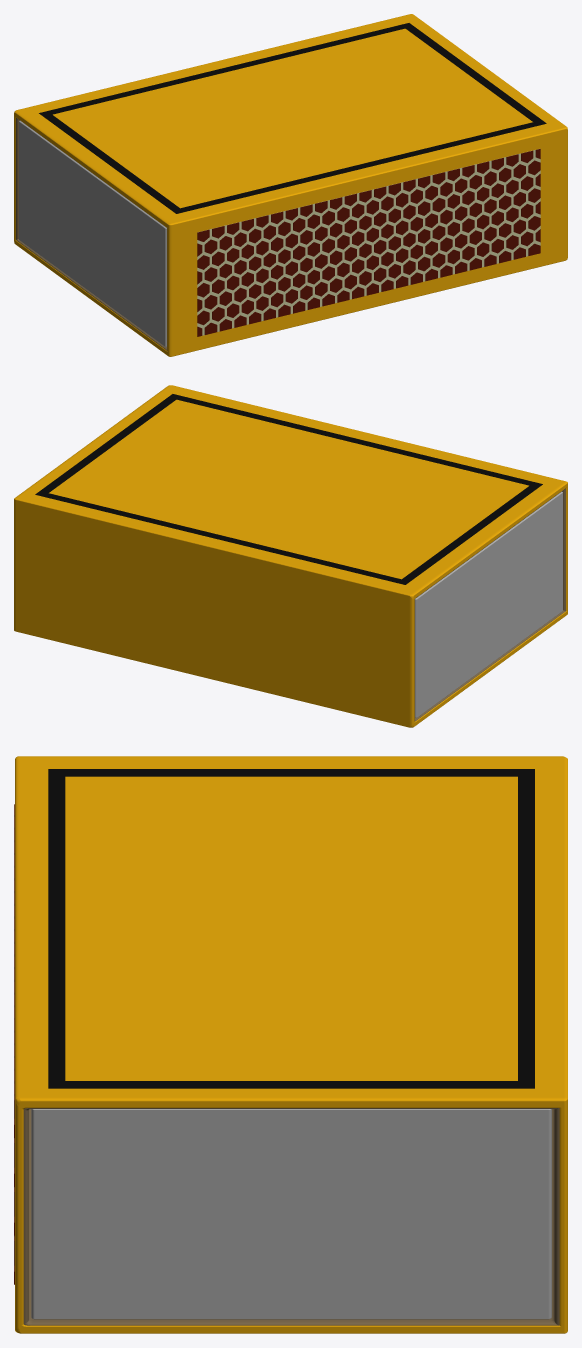
File: matchbox.fbx
3 renders of one model, top to bottom at view 1: azimuth 30°, elevation 25°; view 2: azimuth 150°, elevation 25°; view 3: azimuth 270°, elevation 25°, orthographic. The views are drawn at different scales.
Visible parts, largest first — view 1: Cube, Circle, Cube.001, Cube.003, Cube.004, Cube.005; view 2: Cube, Cube.001, Cube.004, Cube.005; view 3: Cube, Cube.001, Cube.004, Cube.005.
Boxes of the visible parts, x1,y1,x2,y2 form: Cube: (14, 14, 567, 356); Circle: (197, 149, 540, 336); Cube.001: (19, 120, 166, 346); Cube.003: (197, 149, 540, 335); Cube.004: (39, 23, 546, 213); Cube.005: (16, 117, 167, 350); Cube: (14, 385, 567, 727); Cube.001: (415, 491, 562, 717); Cube.004: (35, 394, 542, 584); Cube.005: (414, 488, 565, 721); Cube: (15, 756, 567, 1333); Cube.001: (31, 1109, 551, 1319); Cube.004: (48, 769, 534, 1088); Cube.005: (23, 1108, 559, 1325).
Size of what is drawn, in the model's own units: 200 by 63.72 by 136.
